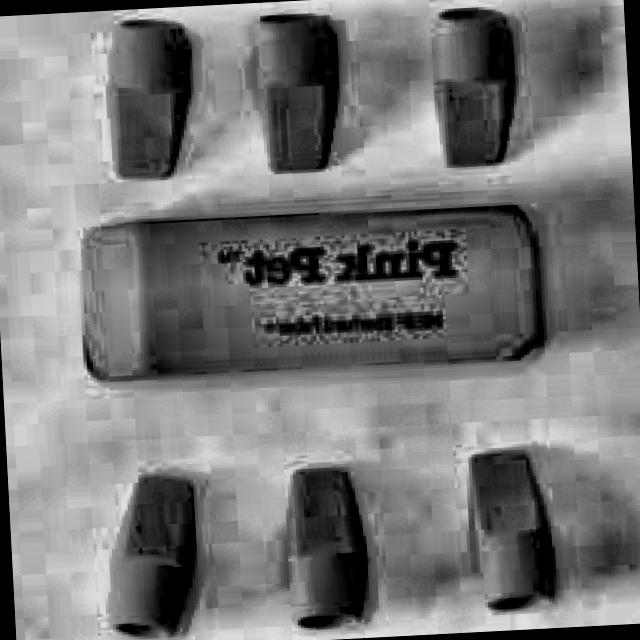eraser: (67, 192, 555, 398)
